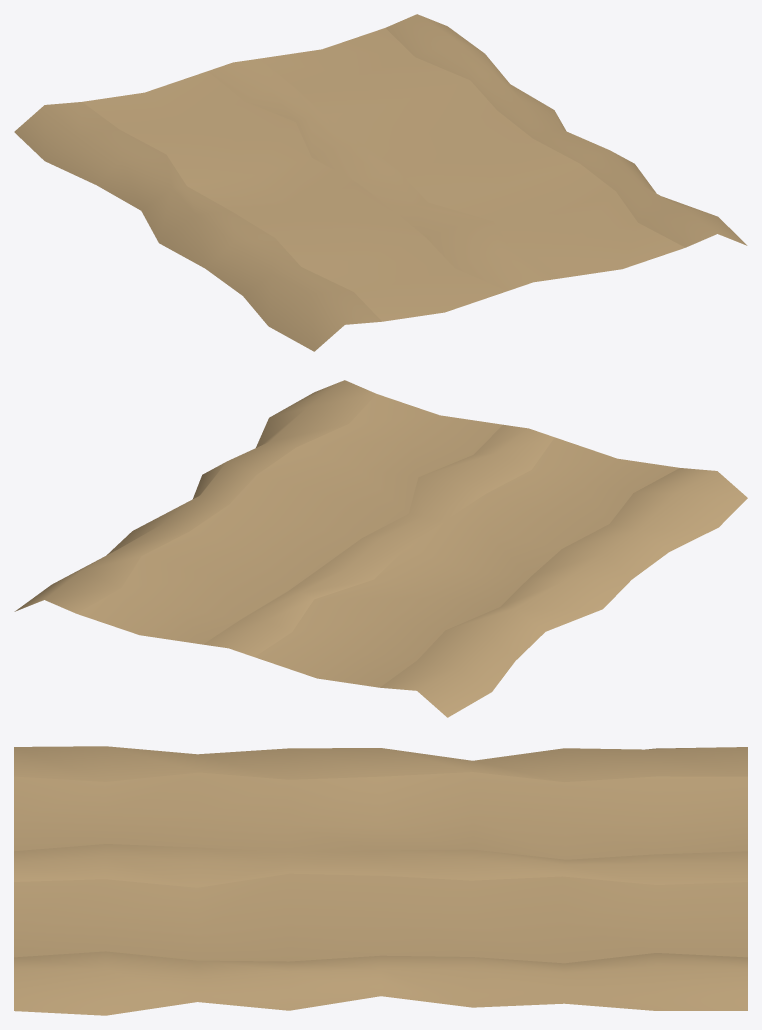
Rendered from Building_mode_L1_Road001.fbx.
The picture shows the model from 3 angles, top to bottom: view 1: azimuth 30°, elevation 25°; view 2: azimuth 150°, elevation 25°; view 3: azimuth 270°, elevation 25°; orthographic projection. The views are drawn at different scales.
Visible parts, largest first — view 1: Building_mode_L1_Road001; view 2: Building_mode_L1_Road001; view 3: Building_mode_L1_Road001.
Boxes of the visible parts, x1,y1,x2,y2 form: Building_mode_L1_Road001: [14, 14, 747, 351]; Building_mode_L1_Road001: [14, 380, 747, 717]; Building_mode_L1_Road001: [14, 746, 747, 1015].
Size of the model in its own units: 2.59 by 0.1243 by 3.
